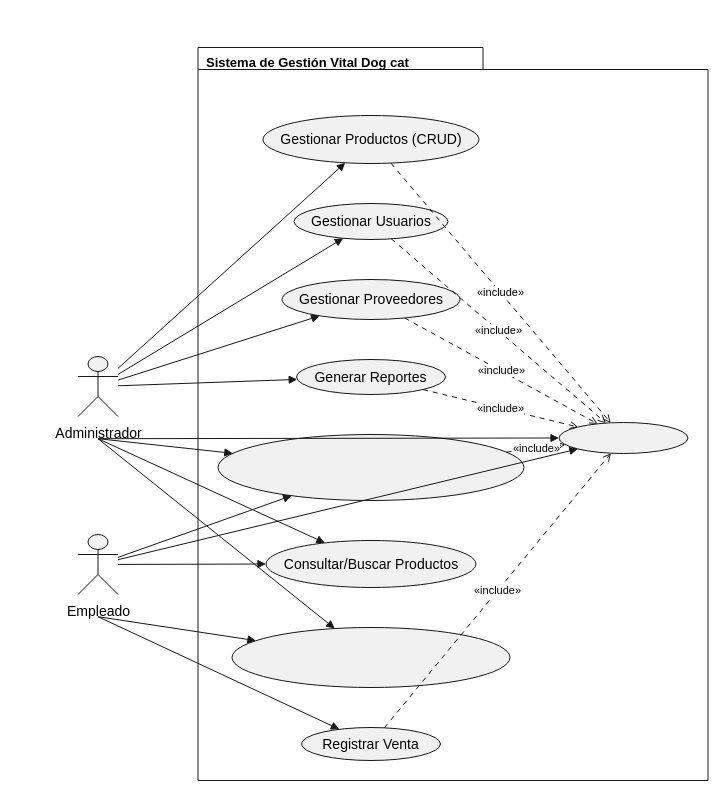
Some shapes in this 725 by 798 pixel diagram are drawn without their labels. The box of each missing label's shape, as (x1, y1, x2, y2) in pixels:
Iniciar Sesión: (558, 422, 688, 454)
Recibir Alertas de Stock/Vencimiento: (231, 626, 510, 688)
Registrar Movimientos (Entradas/Salidas): (217, 434, 524, 500)
